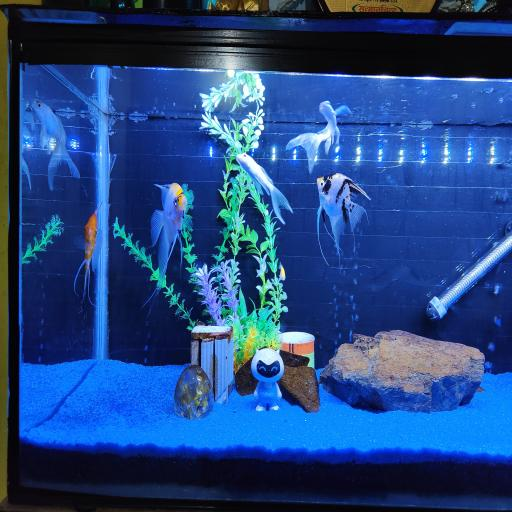Fish: (145, 183, 187, 305), (286, 101, 351, 173), (317, 174, 370, 253), (33, 101, 79, 190), (237, 153, 292, 224), (74, 204, 102, 310), (20, 113, 34, 189), (280, 264, 285, 280)
